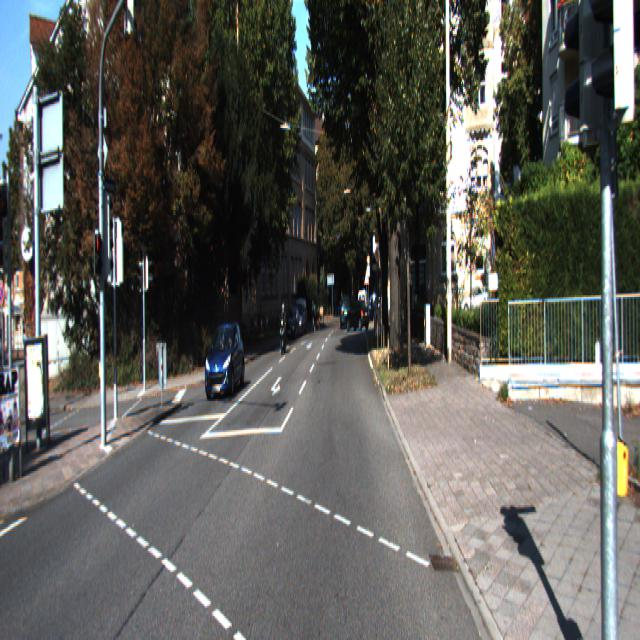Car: (203, 319, 245, 403), (283, 306, 300, 342), (278, 302, 288, 355)
